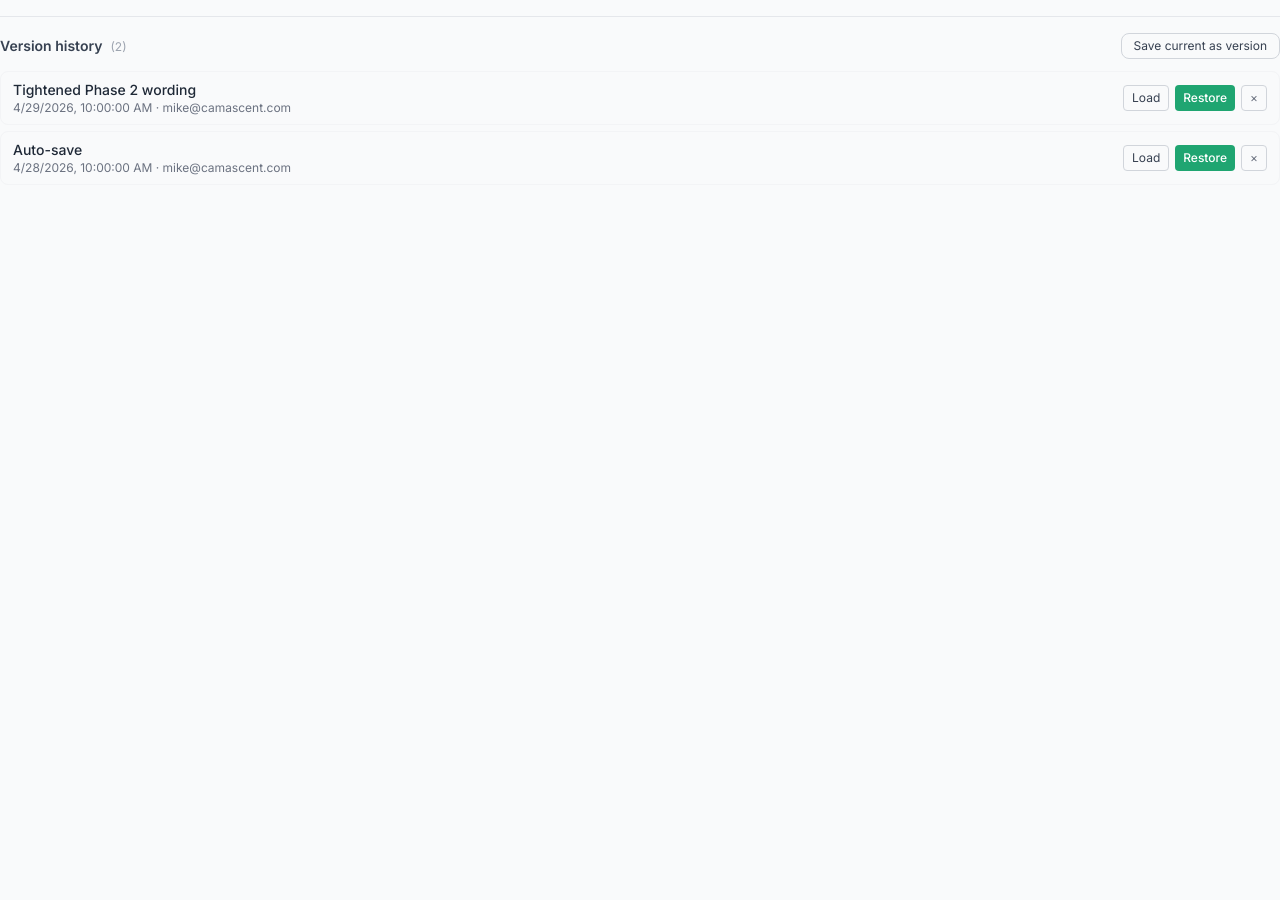
Test: PromptVersionHistory › opens a restore confirmation modal when Restore is clicked
Check: the text "Tightened Phase 2 wording" is shown, box [13,81,196,98]
Step 1. Click the button "Restore" in the row of "Tightened Phase 2 wording" → (1205, 98), box [1175,85,1235,111]
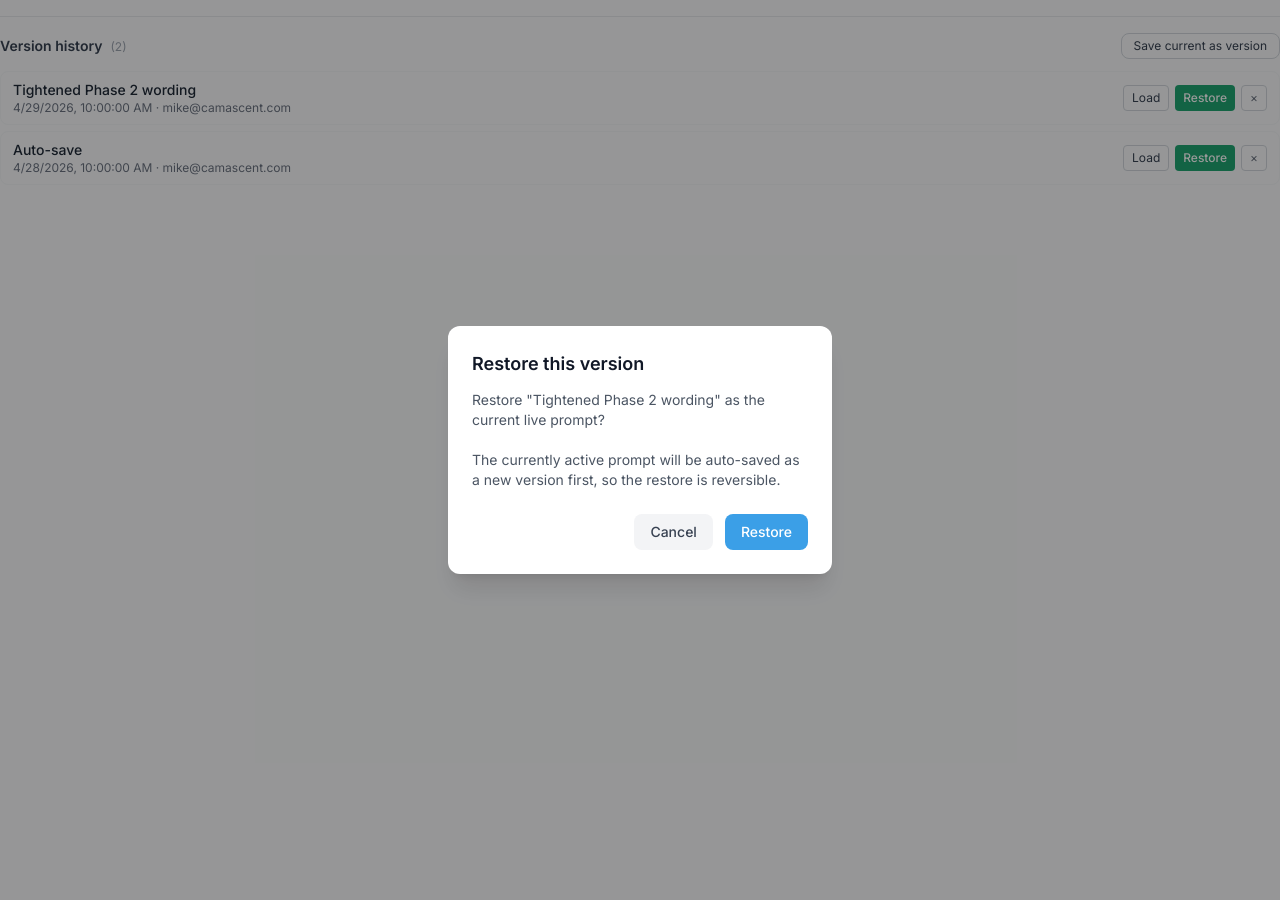
Check: the heading "Restore this version" is shown, box [472,353,644,374]
Check: the text "auto-saved as a new version first" is shown, box [472,391,800,488]
